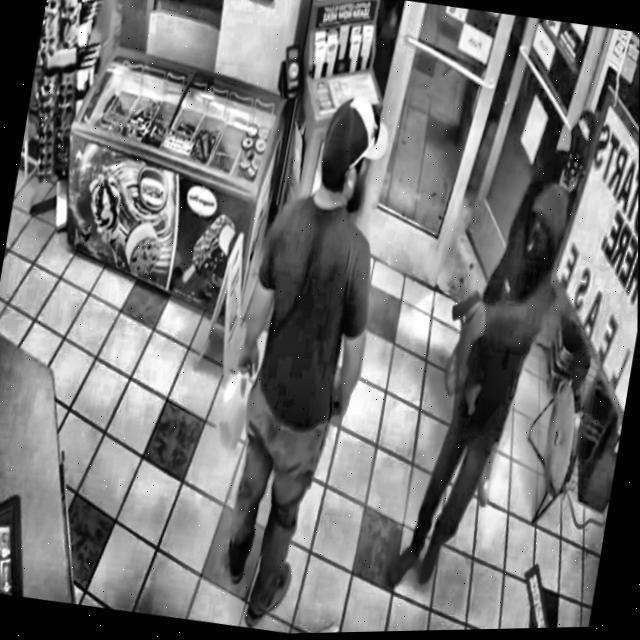pistol: (436, 278, 497, 350)
robbery: (218, 89, 606, 629)
